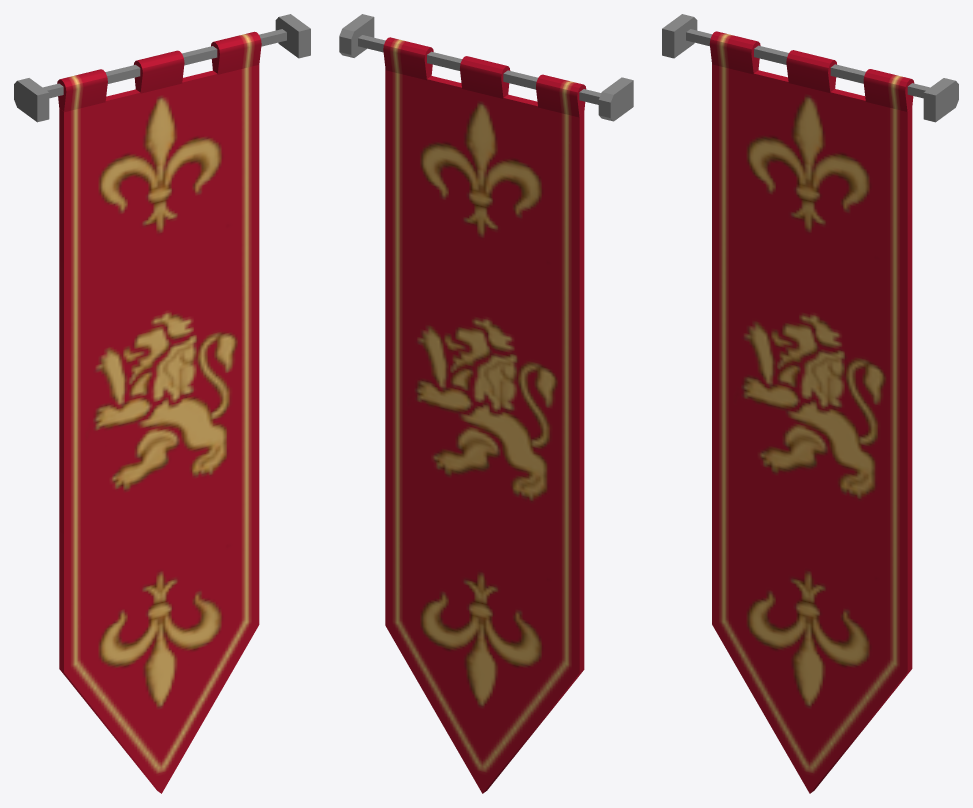
The model's file is Flag.fbx.
3 renders of one model, left to right at view 1: azimuth 30°, elevation 25°; view 2: azimuth 150°, elevation 25°; view 3: azimuth 330°, elevation 25°, orthographic.
Parts seen in each view (by area): view 1: M_Banner3_MedievalDiningRoom_FinalScene2:blinn2_0, M_Banner3_MedievalDiningRoom_FinalScene2:blinn1_0; view 2: M_Banner3_MedievalDiningRoom_FinalScene2:blinn2_0, M_Banner3_MedievalDiningRoom_FinalScene2:blinn1_0; view 3: M_Banner3_MedievalDiningRoom_FinalScene2:blinn2_0, M_Banner3_MedievalDiningRoom_FinalScene2:blinn1_0.
Boxes of the visible parts, <box> form: M_Banner3_MedievalDiningRoom_FinalScene2:blinn2_0: <box>57,31,261,793</box>; M_Banner3_MedievalDiningRoom_FinalScene2:blinn1_0: <box>14,14,310,122</box>; M_Banner3_MedievalDiningRoom_FinalScene2:blinn2_0: <box>383,37,586,793</box>; M_Banner3_MedievalDiningRoom_FinalScene2:blinn1_0: <box>339,14,633,121</box>; M_Banner3_MedievalDiningRoom_FinalScene2:blinn2_0: <box>709,31,914,793</box>; M_Banner3_MedievalDiningRoom_FinalScene2:blinn1_0: <box>662,14,958,122</box>.
Size of the model in its own units: 12.65 by 32.72 by 1.86.
Materials: 2 (2 with a texture image).
